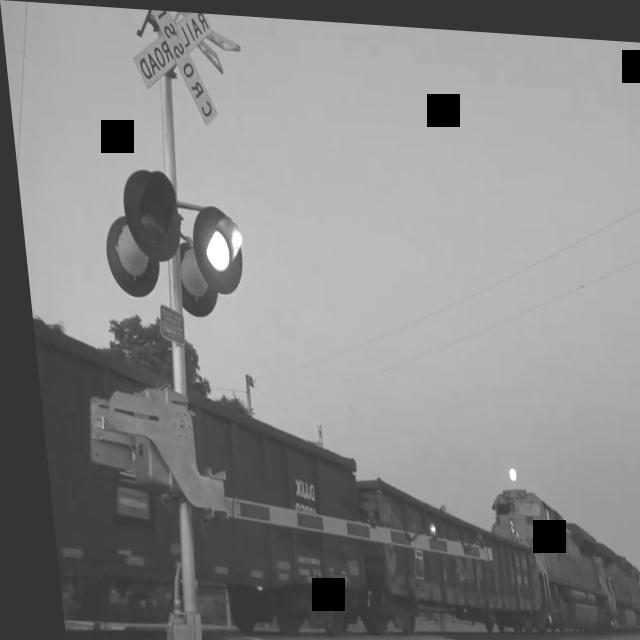gondola: (24, 296, 364, 640), (346, 458, 540, 639)
locomotive: (470, 472, 604, 640)
